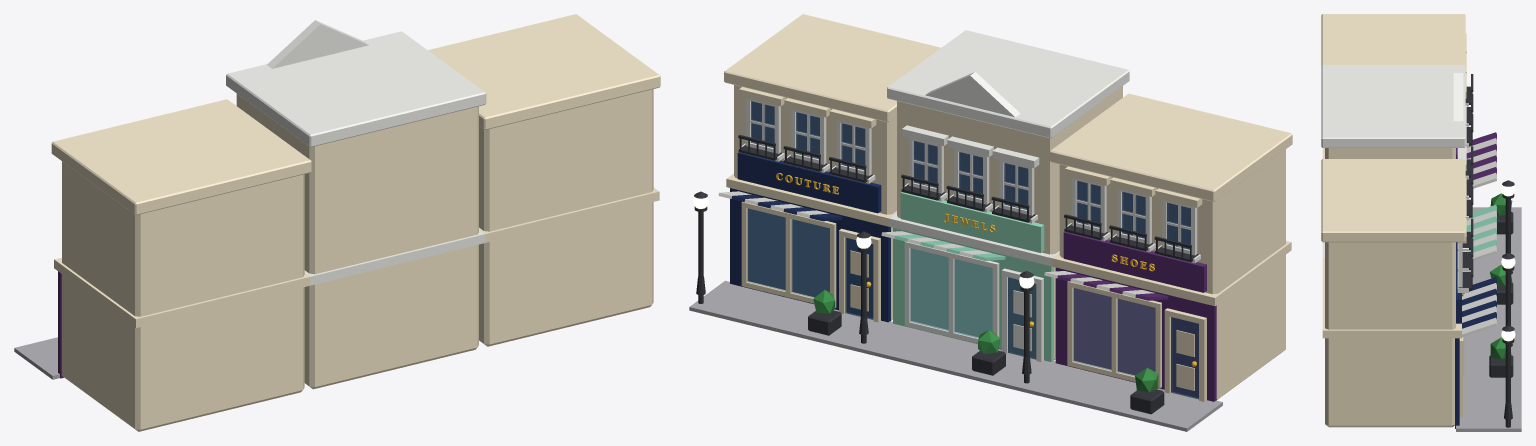
Rendered from BoutiqueRow.fbx.
3 renders of one model, left to right at view 1: azimuth 30°, elevation 25°; view 2: azimuth 150°, elevation 25°; view 3: azimuth 270°, elevation 25°, orthographic. The views are drawn at different scales.
Parts seen in each view (by area): view 1: BoutiqueRow_Cream, BoutiqueRow_White, BoutiqueRow_Concrete; view 2: BoutiqueRow_Cream, BoutiqueRow_White, BoutiqueRow_Glass, BoutiqueRow_Concrete, BoutiqueRow_Plum, BoutiqueRow_Mint, BoutiqueRow_Navy, BoutiqueRow_GlassDark, BoutiqueRow_Charcoal, BoutiqueRow_Hedge, BoutiqueRow_Gold; view 3: BoutiqueRow_Cream, BoutiqueRow_White, BoutiqueRow_Concrete, BoutiqueRow_Charcoal, BoutiqueRow_Navy, BoutiqueRow_Hedge, BoutiqueRow_Plum, BoutiqueRow_Mint, BoutiqueRow_WindowGlow.
Boxes of the visible parts, bbox=[...] form: BoutiqueRow_Cream: bbox=[51, 14, 660, 431]; BoutiqueRow_White: bbox=[226, 20, 486, 285]; BoutiqueRow_Concrete: bbox=[14, 337, 59, 379]; BoutiqueRow_Cream: bbox=[724, 14, 1292, 401]; BoutiqueRow_White: bbox=[718, 30, 1200, 362]; BoutiqueRow_Glass: bbox=[747, 208, 1155, 376]; BoutiqueRow_Concrete: bbox=[689, 280, 1222, 431]; BoutiqueRow_Plum: bbox=[1055, 232, 1216, 401]; BoutiqueRow_Mint: bbox=[893, 192, 1053, 361]; BoutiqueRow_Navy: bbox=[730, 152, 890, 322]; BoutiqueRow_GlassDark: bbox=[751, 101, 1198, 399]; BoutiqueRow_Charcoal: bbox=[694, 135, 1198, 414]; BoutiqueRow_Hedge: bbox=[813, 290, 1158, 392]; BoutiqueRow_Gold: bbox=[776, 173, 1196, 366]; BoutiqueRow_Cream: bbox=[1321, 14, 1466, 427]; BoutiqueRow_White: bbox=[1321, 65, 1496, 337]; BoutiqueRow_Concrete: bbox=[1456, 207, 1521, 431]; BoutiqueRow_Charcoal: bbox=[1458, 74, 1514, 427]; BoutiqueRow_Navy: bbox=[1455, 242, 1496, 428]; BoutiqueRow_Hedge: bbox=[1490, 193, 1512, 359]; BoutiqueRow_Plum: bbox=[1456, 132, 1496, 179]; BoutiqueRow_Mint: bbox=[1466, 204, 1496, 252]; BoutiqueRow_WindowGlow: bbox=[1501, 186, 1515, 341].
Bounding box in the file's own units: 44.17 × 23.22 × 16.8.
